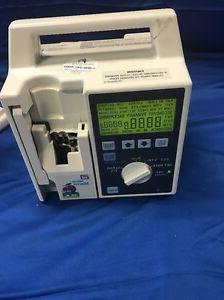plumxl1: (1, 13, 194, 203)
